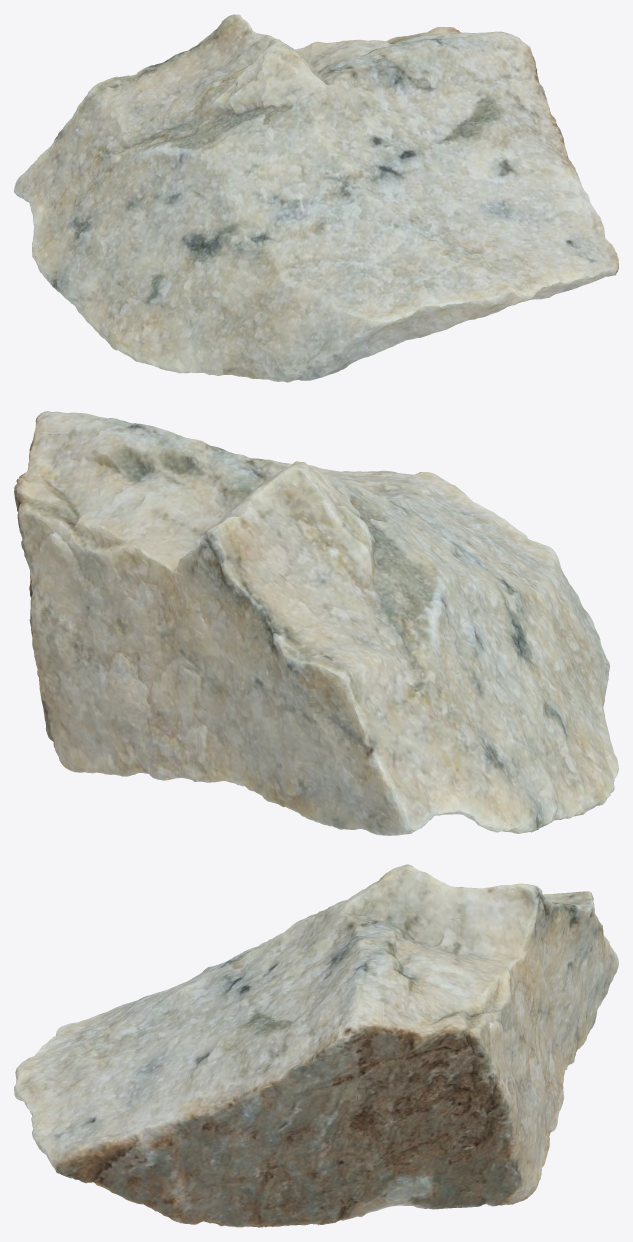
File: marble.glb
3 renders of one model, top to bottom at view 1: azimuth 30°, elevation 25°; view 2: azimuth 150°, elevation 25°; view 3: azimuth 270°, elevation 25°, orthographic. The views are drawn at different scales.
Parts seen in each view (by area): view 1: Object_2; view 2: Object_2; view 3: Object_2.
Boxes of the visible parts, x1,y1,x2,y2 form: Object_2: [14, 14, 618, 382]; Object_2: [14, 411, 618, 835]; Object_2: [14, 864, 618, 1227].
Bounding box in the file's own units: 0.0961 × 0.0506 × 0.1.
Materials: 1 (1 with a texture image).
